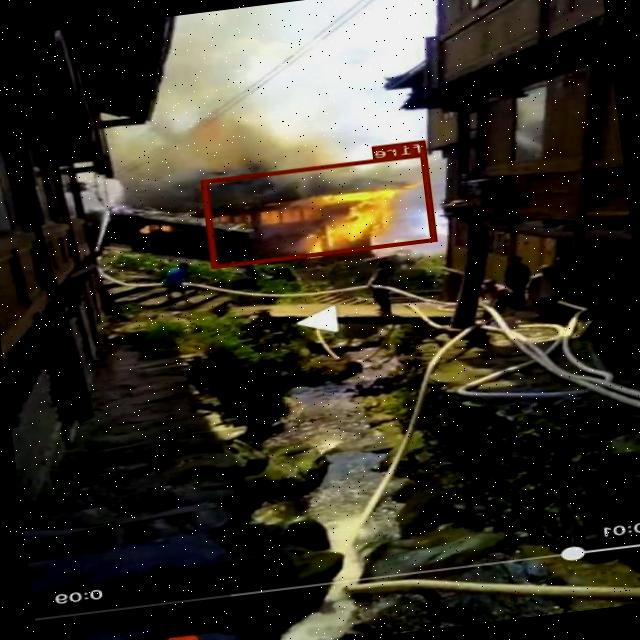fire: (202, 151, 438, 267)
